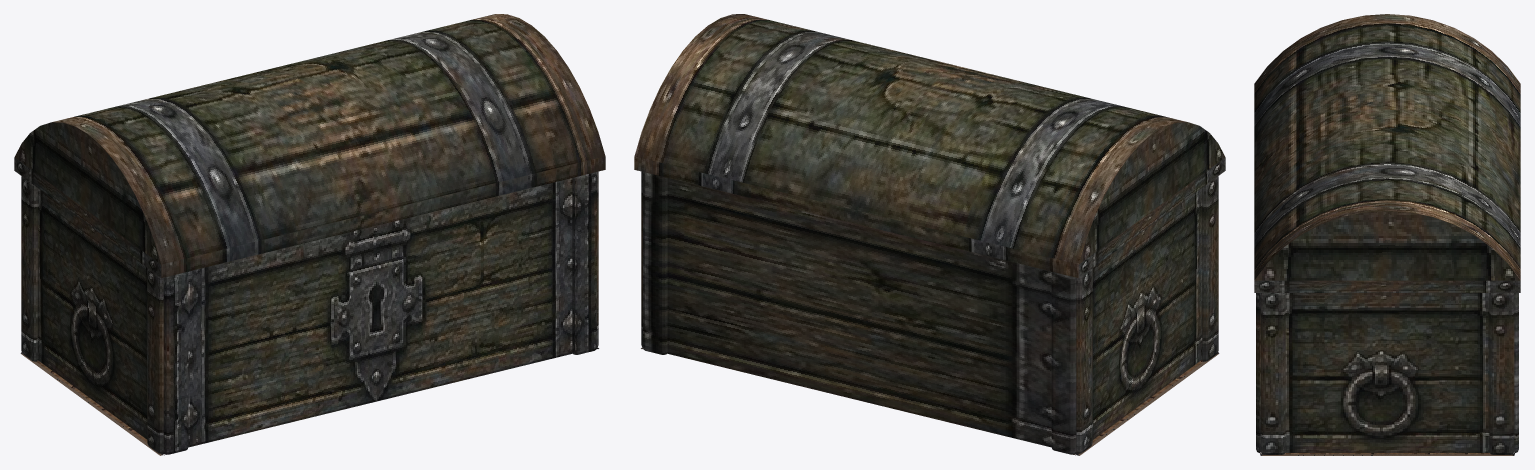
Rendered from chest_domed_moss.glb.
3 renders of one model, left to right at view 1: azimuth 30°, elevation 25°; view 2: azimuth 150°, elevation 25°; view 3: azimuth 270°, elevation 25°, orthographic. The views are drawn at different scales.
Parts seen in each view (by area): view 1: body, lid; view 2: body, lid; view 3: lid, body.
Boxes of the visible parts, left/top/right/bottom form: body: left=20, top=171, right=598, bottom=455; lid: left=14, top=14, right=605, bottom=278; body: left=641, top=171, right=1219, bottom=455; lid: left=634, top=14, right=1225, bottom=278; lid: left=1254, top=14, right=1520, bottom=292; body: left=1256, top=293, right=1518, bottom=455.
Bounding box in the file's own units: 1.03 × 0.6 × 0.588.
Materials: 1 (1 with a texture image).
